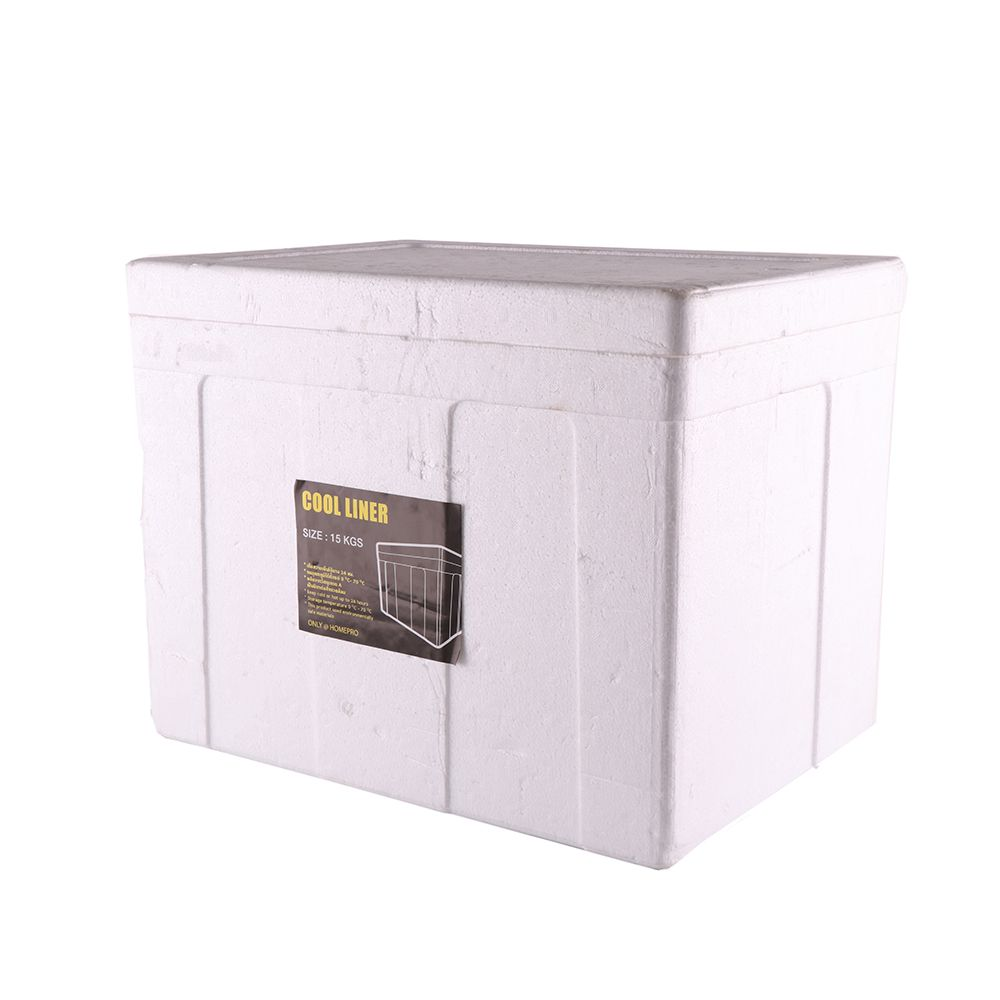Foam Box: (114, 235, 904, 874)
